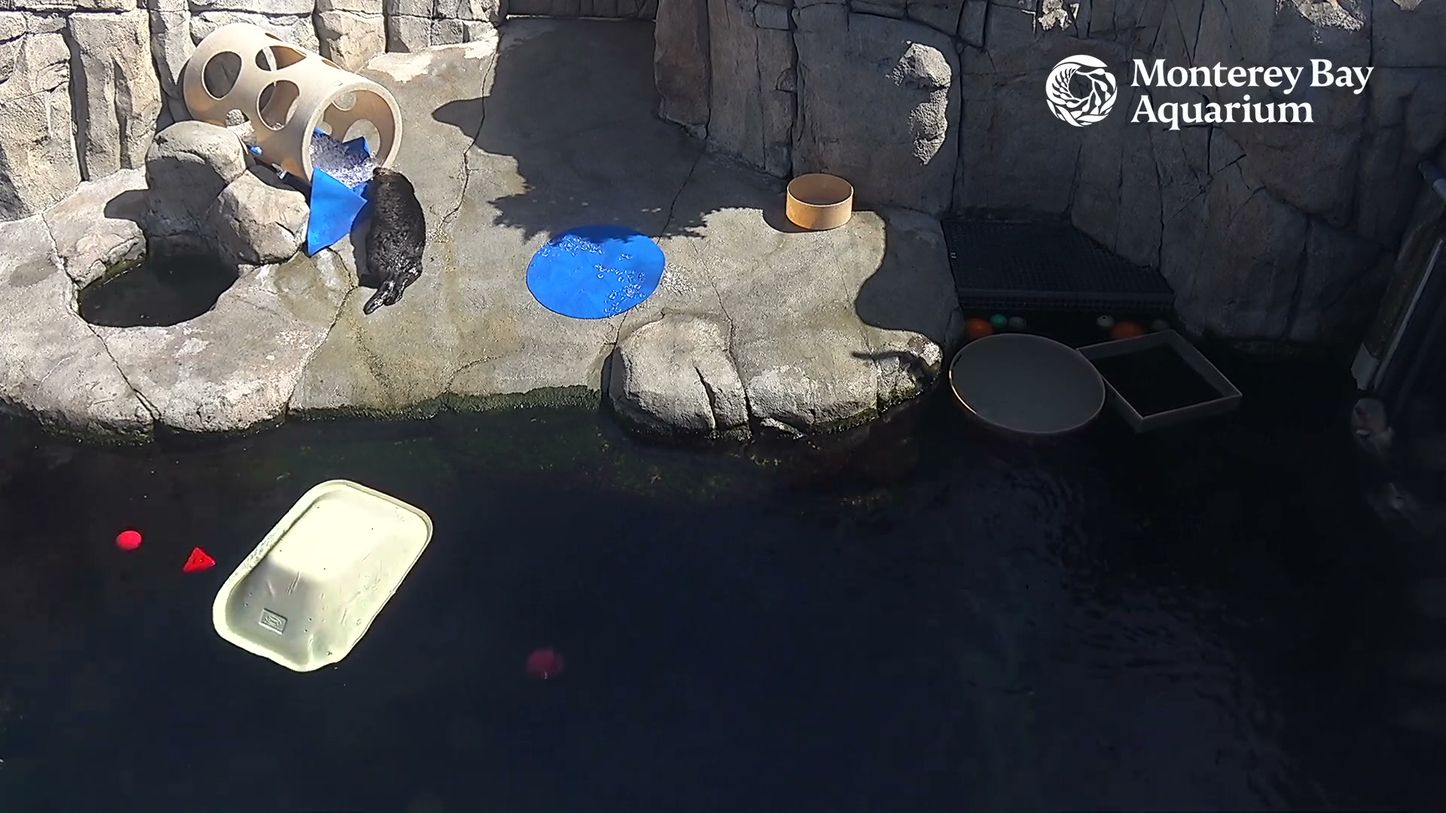Southern Sea Otter: (360, 141, 436, 324)
